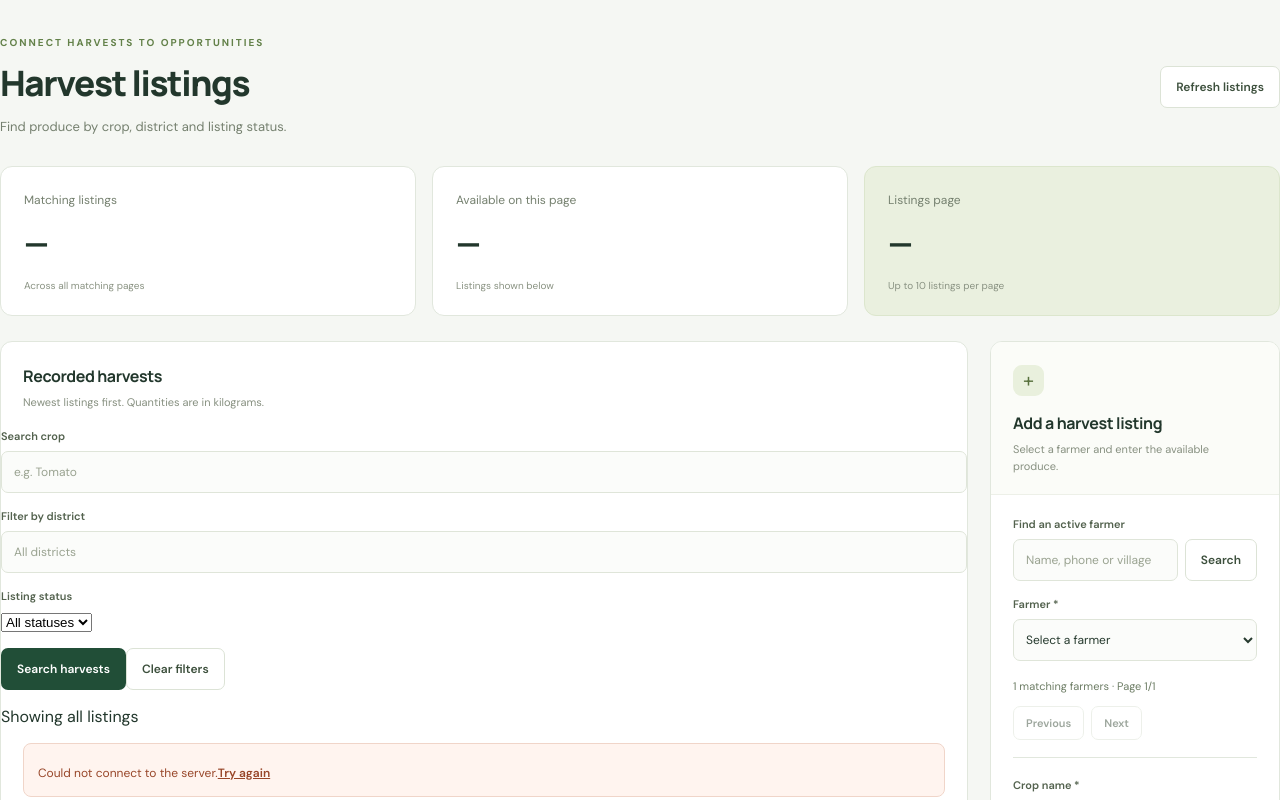
Scenario: HarvestListings › retries a failed listing request and displays the results
The image size is (1280, 800).
Expected: the message shows "Could not connect to the server.", 38,765 -> 218,781
Click the button "Try again": [244, 770] box 218,756 -> 270,784
(page scrolled)
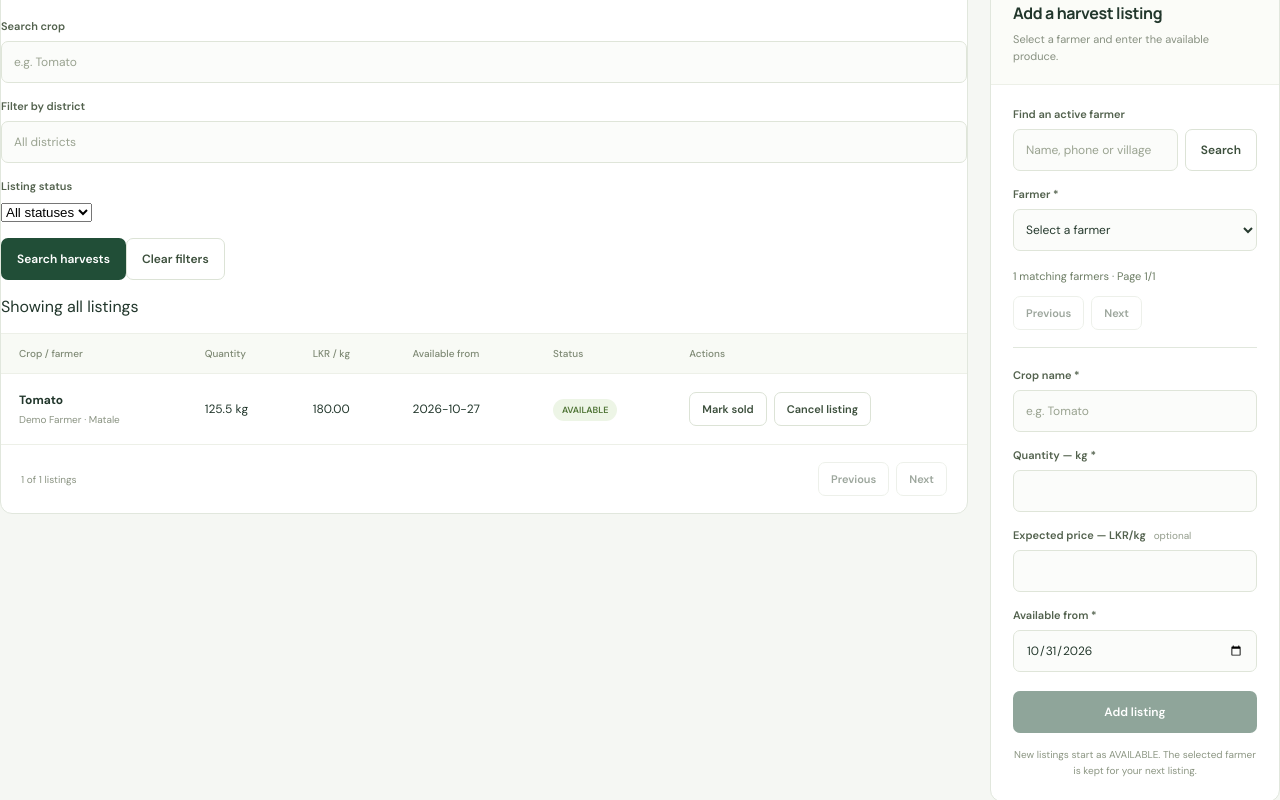
Now the text "Tomato" is shown, box 19,392 -> 63,408
Now the message "Could not connect to the server. Try again" is gone
